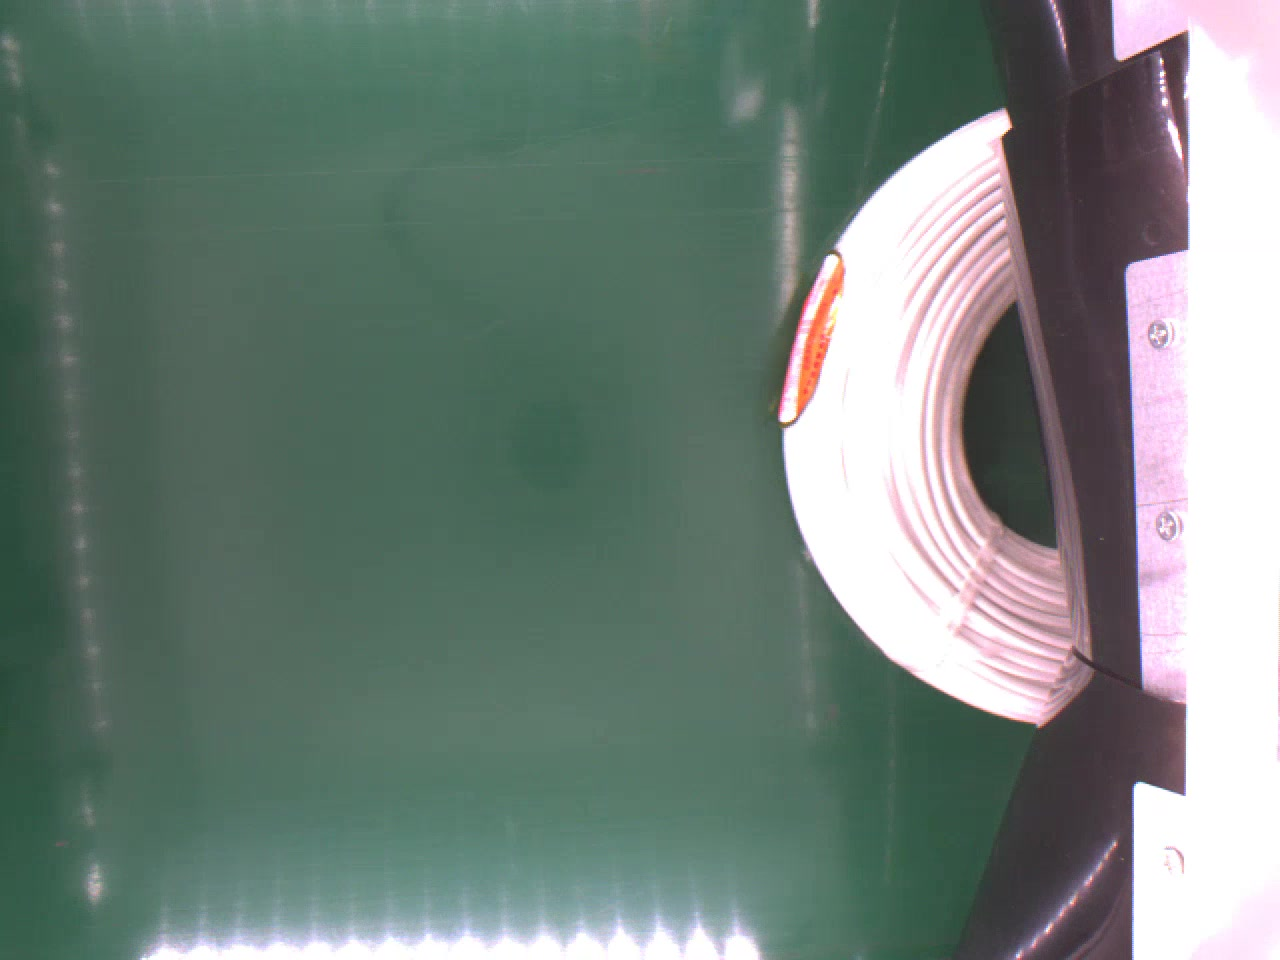white: (780, 95, 1070, 722)
